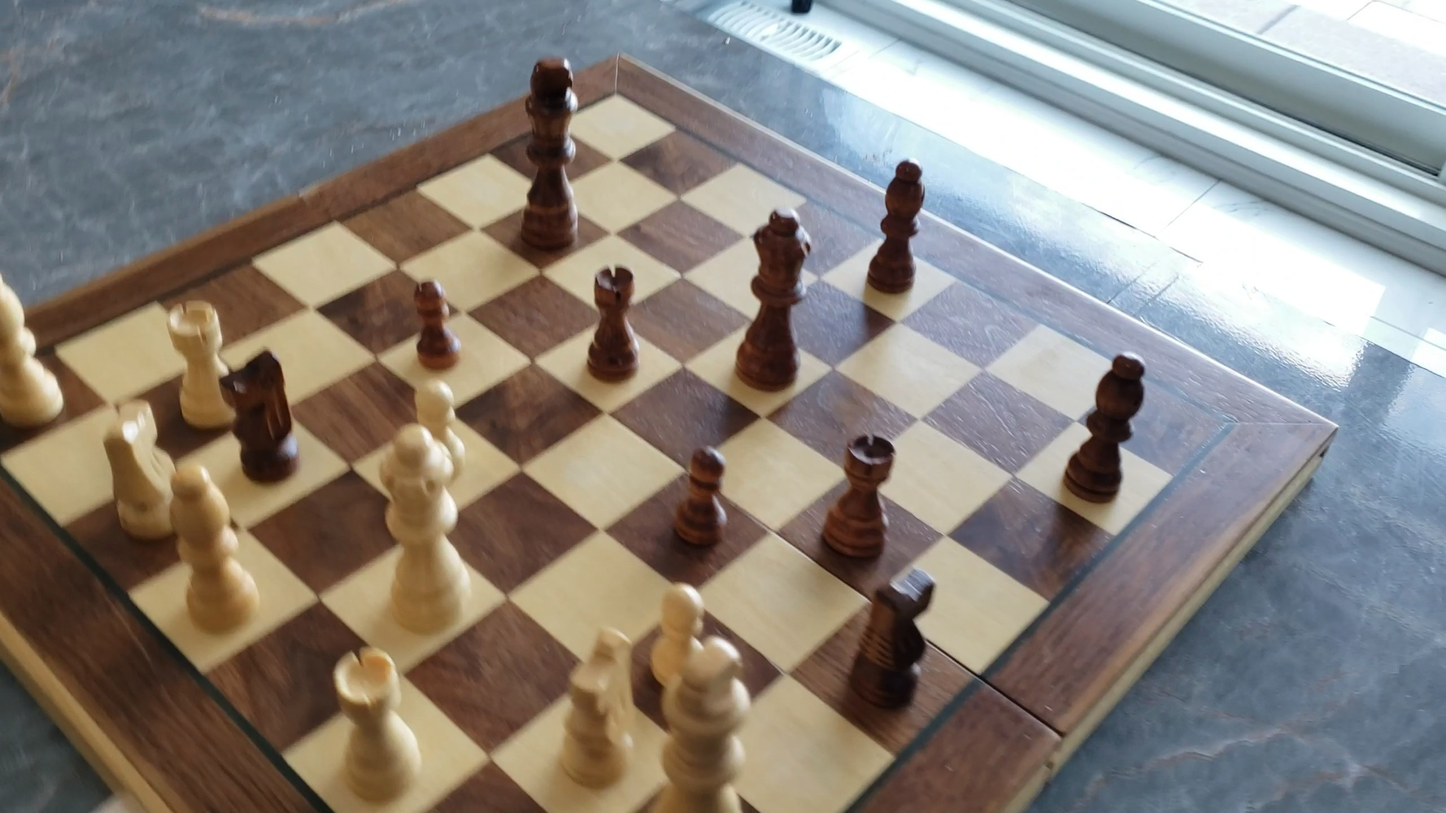black-bishop: (1061, 345, 1149, 499), (865, 154, 927, 292)
black-king: (518, 53, 589, 252)
black-knight: (843, 565, 941, 711), (216, 346, 303, 484)
black-pawn: (670, 440, 731, 550), (410, 275, 463, 373)
black-queen: (734, 204, 815, 392)
black-rook: (820, 431, 896, 560), (585, 263, 641, 383)
white-bishop: (165, 461, 265, 639), (0, 262, 67, 434)
white-king: (651, 631, 760, 812)
white-knight: (553, 622, 640, 794), (98, 395, 182, 545)
white-queen: (371, 419, 478, 639)
white-rook: (328, 644, 428, 805), (160, 295, 240, 432)
